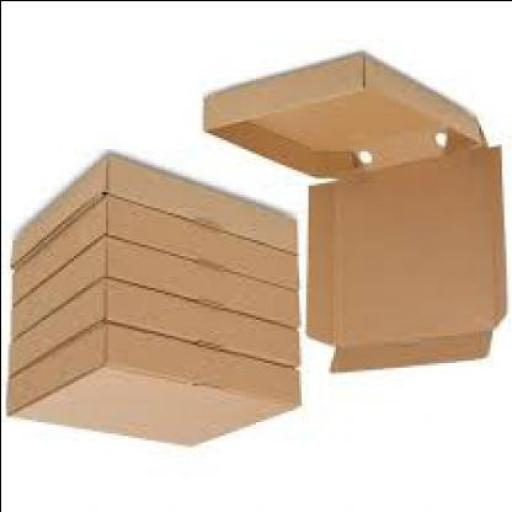cardboard: (198, 55, 502, 375), (2, 320, 298, 448), (7, 154, 296, 269), (7, 193, 296, 305), (6, 239, 294, 341), (5, 284, 295, 378)
